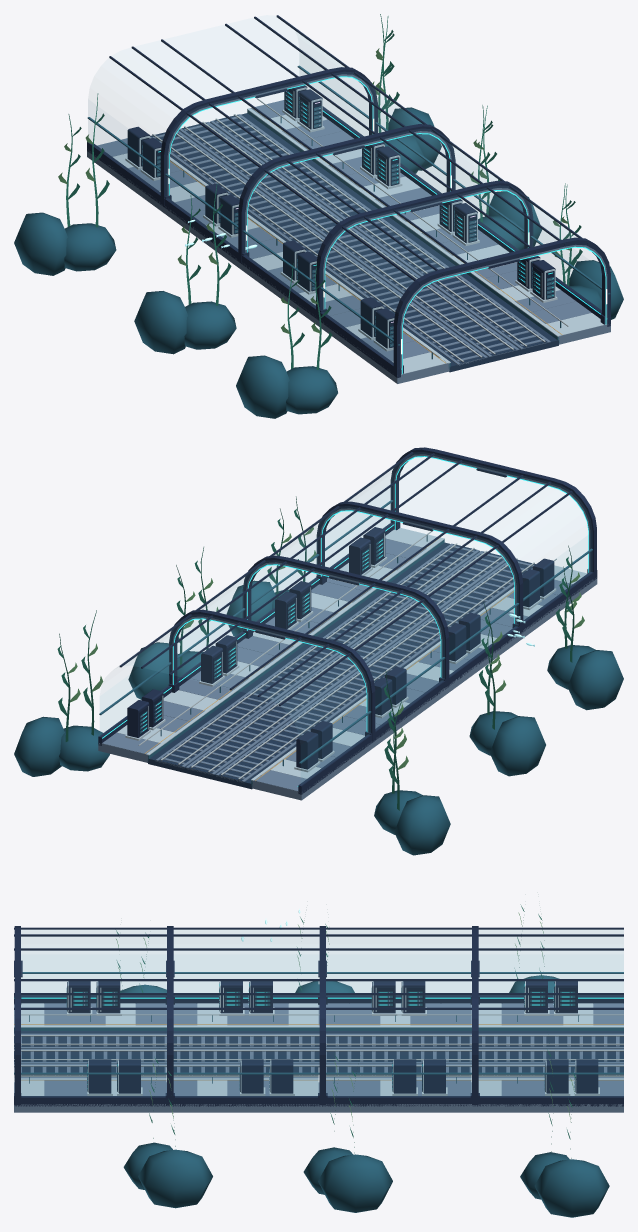
The model's file is deepsea-track.glb.
3 views of the same model, one above another, from view 1: azimuth 30°, elevation 25°; view 2: azimuth 150°, elevation 25°; view 3: azimuth 270°, elevation 25° (orthographic). The views are drawn at different scales.
Parts seen in each view (by area): view 1: deepsea-track_DeepPanel, deepsea-track_DeepNavy, deepsea-track_DeepReef, deepsea-track_DeepBed, deepsea-track_DeepIvory, deepsea-track_DeepTeal, deepsea-track_RailFace, deepsea-track_DeepKelp, deepsea-track_DeepGraphite, deepsea-track_DeepGlassRoof, deepsea-track_DeepCyan, deepsea-track_RailWeb (+1 smaller); view 2: deepsea-track_DeepNavy, deepsea-track_DeepPanel, deepsea-track_DeepReef, deepsea-track_DeepBed, deepsea-track_DeepIvory, deepsea-track_RailFace, deepsea-track_DeepTeal, deepsea-track_DeepKelp, deepsea-track_DeepGlassRoof, deepsea-track_RailWeb, deepsea-track_DeepCyan, deepsea-track_DeepGraphite (+1 smaller); view 3: deepsea-track_DeepNavy, deepsea-track_DeepPanel, deepsea-track_DeepReef, deepsea-track_DeepBed, deepsea-track_DeepGlassRoof, deepsea-track_DeepIvory, deepsea-track_DeepTeal, deepsea-track_RailFace, deepsea-track_RailWeb, deepsea-track_DeepGraphite, deepsea-track_DeepCyan, deepsea-track_Tactile (+1 smaller).
Boxes of the visible parts, box(x1,y1,x2,y2) form: deepsea-track_DeepPanel: box(87, 74, 610, 383); deepsea-track_DeepNavy: box(87, 15, 610, 377); deepsea-track_DeepReef: box(14, 107, 623, 418); deepsea-track_DeepBed: box(150, 113, 558, 372); deepsea-track_DeepIvory: box(113, 87, 606, 374); deepsea-track_DeepTeal: box(87, 65, 610, 369); deepsea-track_RailFace: box(152, 98, 568, 361); deepsea-track_DeepKelp: box(66, 14, 582, 369); deepsea-track_DeepGraphite: box(141, 88, 554, 347); deepsea-track_DeepGlassRoof: box(295, 31, 575, 238); deepsea-track_DeepCyan: box(158, 76, 607, 374); deepsea-track_RailWeb: box(152, 115, 545, 362); deepsea-track_DeepNavy: box(98, 447, 597, 794); deepsea-track_DeepPanel: box(98, 454, 597, 800); deepsea-track_DeepReef: box(14, 580, 623, 855); deepsea-track_DeepBed: box(148, 542, 535, 789); deepsea-track_DeepIvory: box(117, 528, 587, 780); deepsea-track_RailFace: box(138, 531, 556, 778); deepsea-track_DeepTeal: box(99, 500, 592, 786); deepsea-track_DeepKelp: box(57, 496, 574, 810); deepsea-track_DeepGlassRoof: box(117, 467, 395, 667); deepsea-track_RailWeb: box(160, 544, 534, 779); deepsea-track_DeepCyan: box(102, 456, 588, 786); deepsea-track_DeepGraphite: box(139, 533, 383, 735); deepsea-track_DeepNavy: box(14, 926, 623, 1106); deepsea-track_DeepPanel: box(14, 989, 623, 1112); deepsea-track_DeepReef: box(120, 975, 609, 1217); deepsea-track_DeepBed: box(14, 1031, 623, 1072); deepsea-track_DeepGlassRoof: box(21, 930, 623, 953); deepsea-track_DeepIvory: box(14, 981, 623, 1095); deepsea-track_DeepTeal: box(14, 972, 623, 1090); deepsea-track_RailFace: box(14, 1014, 623, 1076); deepsea-track_RailWeb: box(14, 1036, 623, 1075); deepsea-track_DeepGraphite: box(67, 982, 576, 1091); deepsea-track_DeepCyan: box(14, 984, 623, 1088); deepsea-track_Tactile: box(14, 1024, 623, 1080).
Size of the model in its own units: 31.85 by 12.43 by 40.
